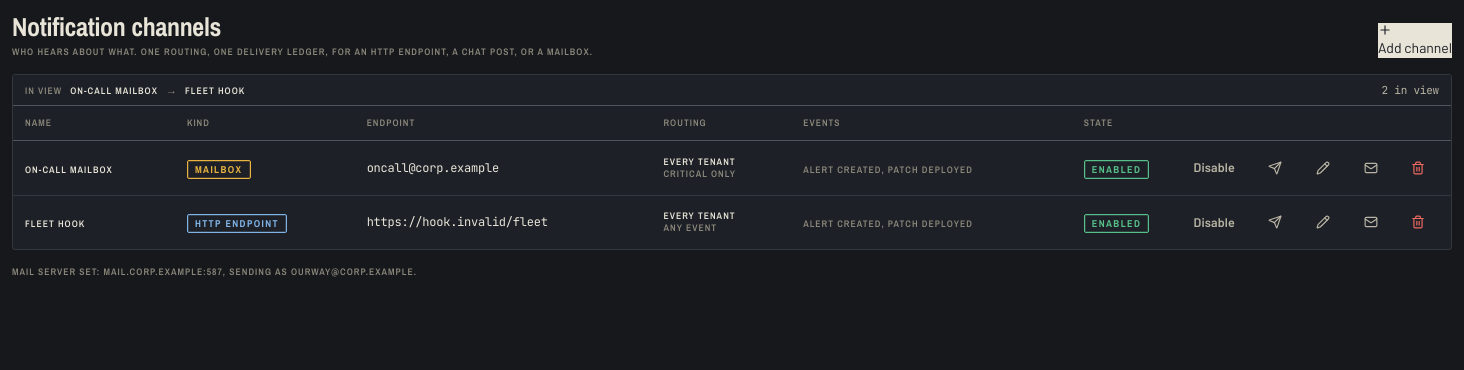
Test case: notification channel ledger › names a channel that cannot be tested, instead of reporting a send
Click the button named "Send a test" in the row of "oncall@corp.example": (1275, 168) left=1255, top=151, right=1296, bottom=185
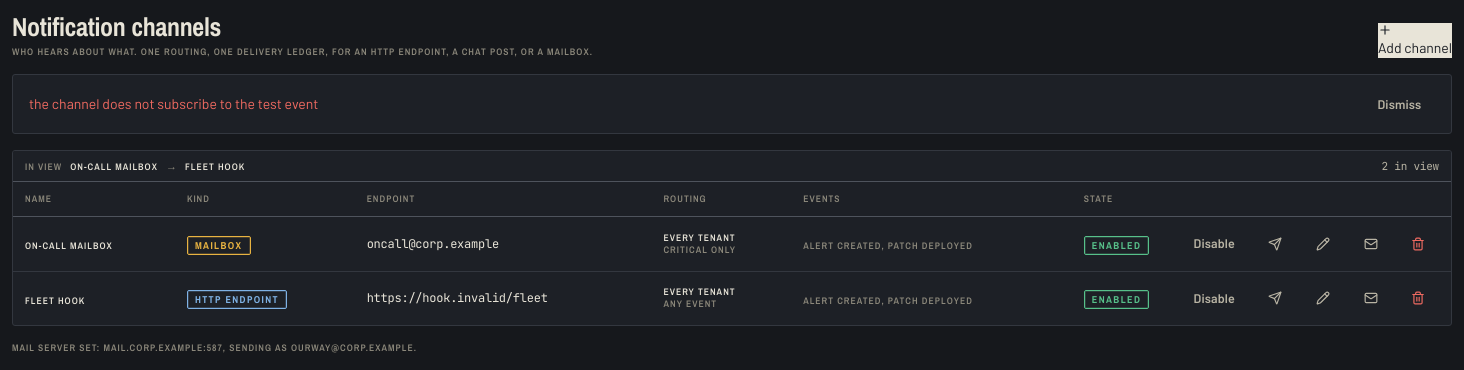
Now the message shows "does not subscribe to the test event", box left=29, top=95, right=318, bottom=112
